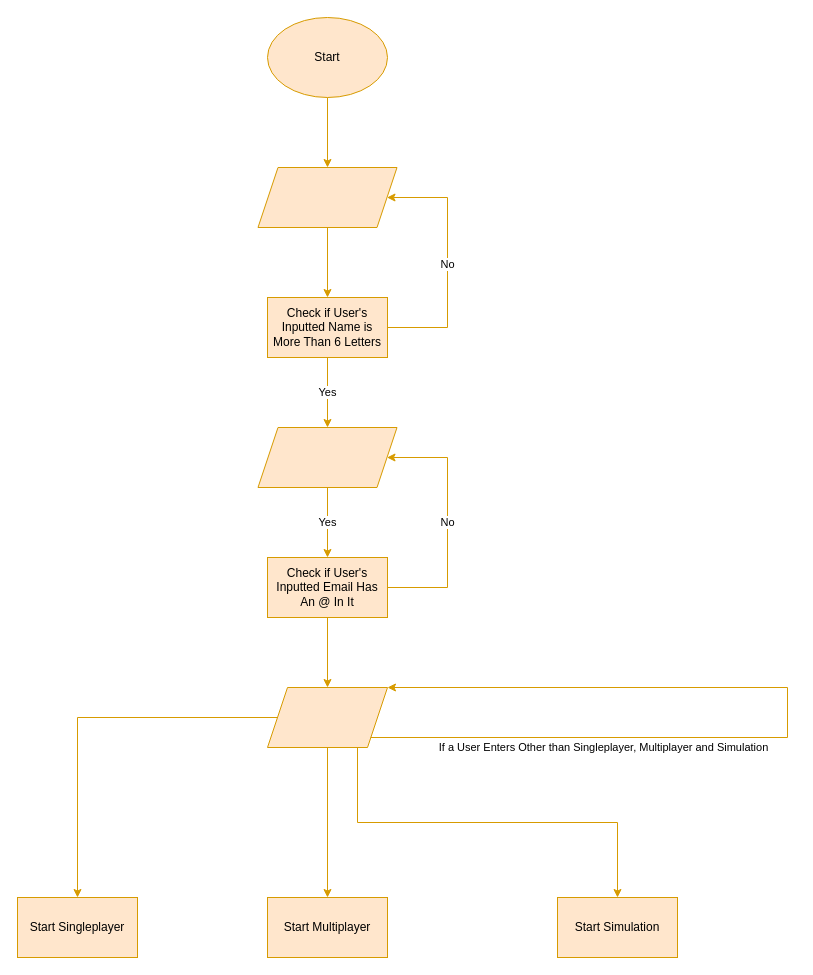
Some shapes in this 813 by 975 pixel diagram are drawn without their labels. The shapes that lost their labels are listed below. From the top down, each one's centre as x and y in pixels, then its label:
(327,197): Ask User to Input Name
(327,457): Ask User to Input Email
(327,717): Ask User for Game Mode
